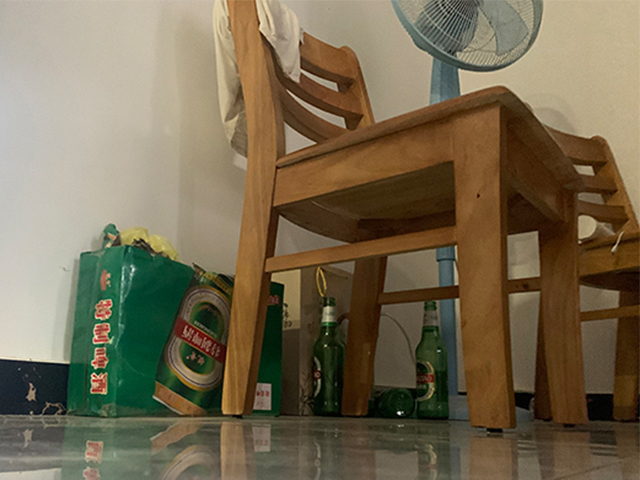stool: (219, 1, 593, 435)
